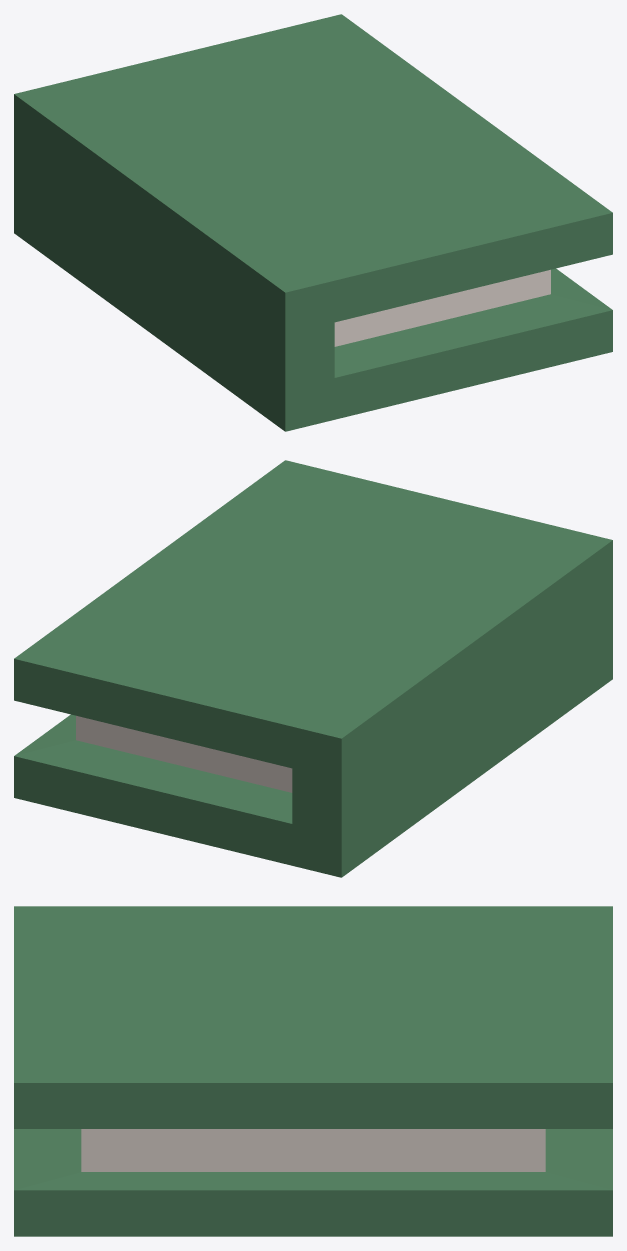
File: Book 01 Green.FBX
3 renders of one model, top to bottom at view 1: azimuth 30°, elevation 25°; view 2: azimuth 150°, elevation 25°; view 3: azimuth 270°, elevation 25°, orthographic. The views are drawn at different scales.
Parts seen in each view (by area): view 1: Book 01 Green; view 2: Book 01 Green; view 3: Book 01 Green.
Part boxes in pixels (x1=…): Book 01 Green: x1=14, y1=14, x2=612, y2=431; Book 01 Green: x1=14, y1=460, x2=612, y2=877; Book 01 Green: x1=14, y1=906, x2=612, y2=1236.
Size of the model in its own units: 38.56 by 15.65 by 55.32.
